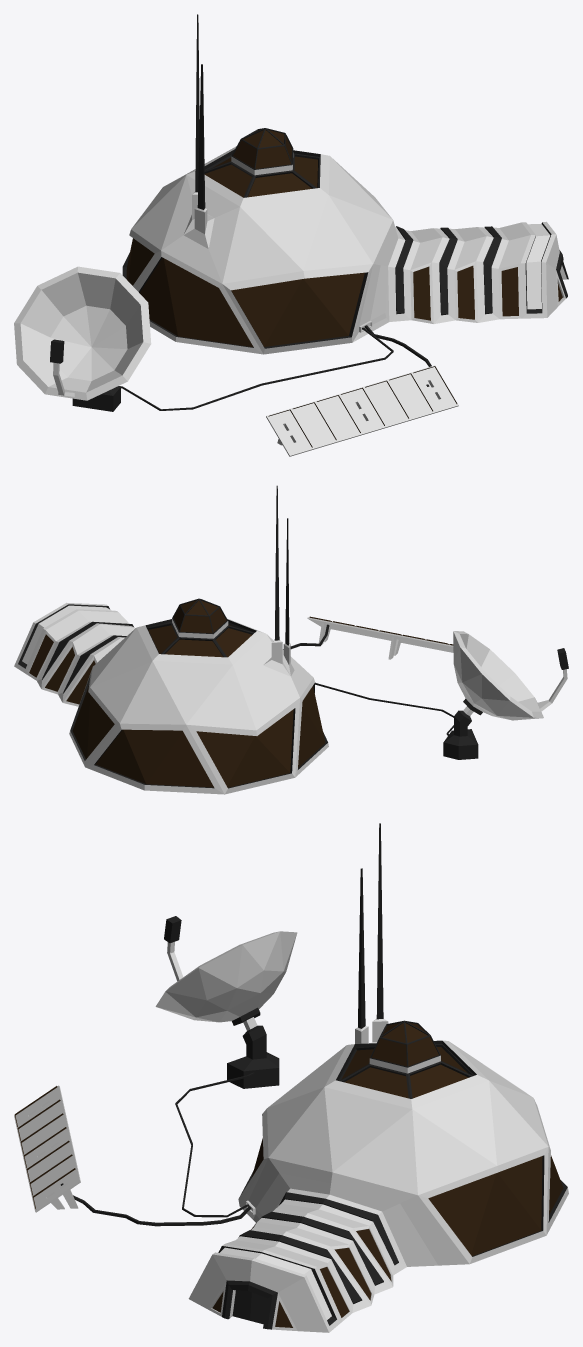
Rendered from env_plane_10.fbx.
The picture shows the model from 3 angles, top to bottom: view 1: azimuth 30°, elevation 25°; view 2: azimuth 150°, elevation 25°; view 3: azimuth 270°, elevation 25°; orthographic projection. The views are drawn at different scales.
Visible parts, largest first — view 1: Icosphere; view 2: Icosphere; view 3: Icosphere.
Boxes of the visible parts, x1=… form: Icosphere: x1=14, y1=14, x2=568, y2=456; Icosphere: x1=14, y1=485, x2=568, y2=794; Icosphere: x1=14, y1=823, x2=568, y2=1332.
Bounding box in the file's own units: 8630 × 4492 × 6645.
